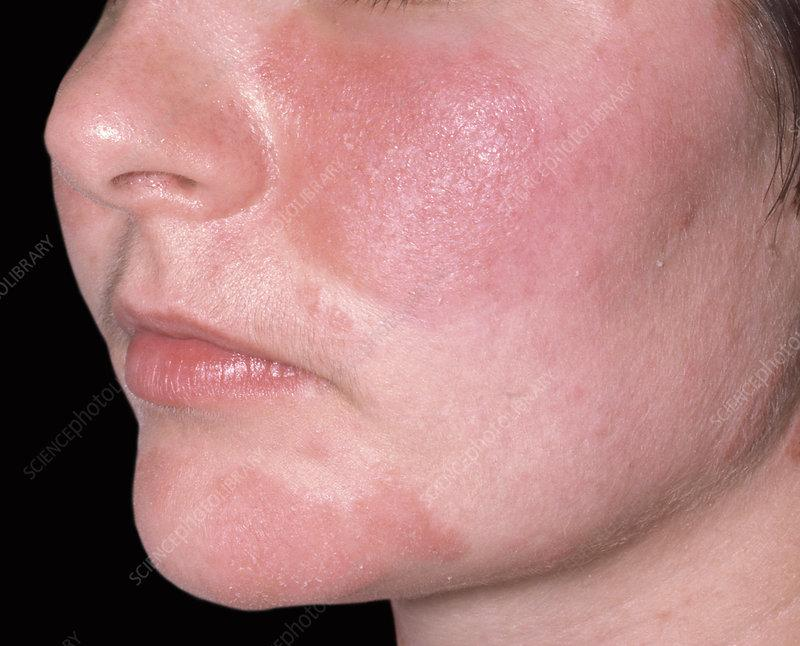Skin-Redness: (255, 3, 555, 330), (190, 455, 474, 611)
